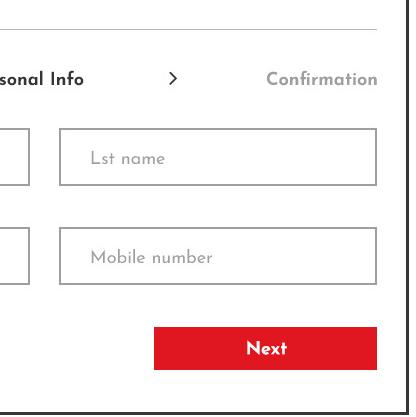button: (152, 326, 380, 371)
field: (55, 124, 383, 190), (58, 227, 380, 287)
